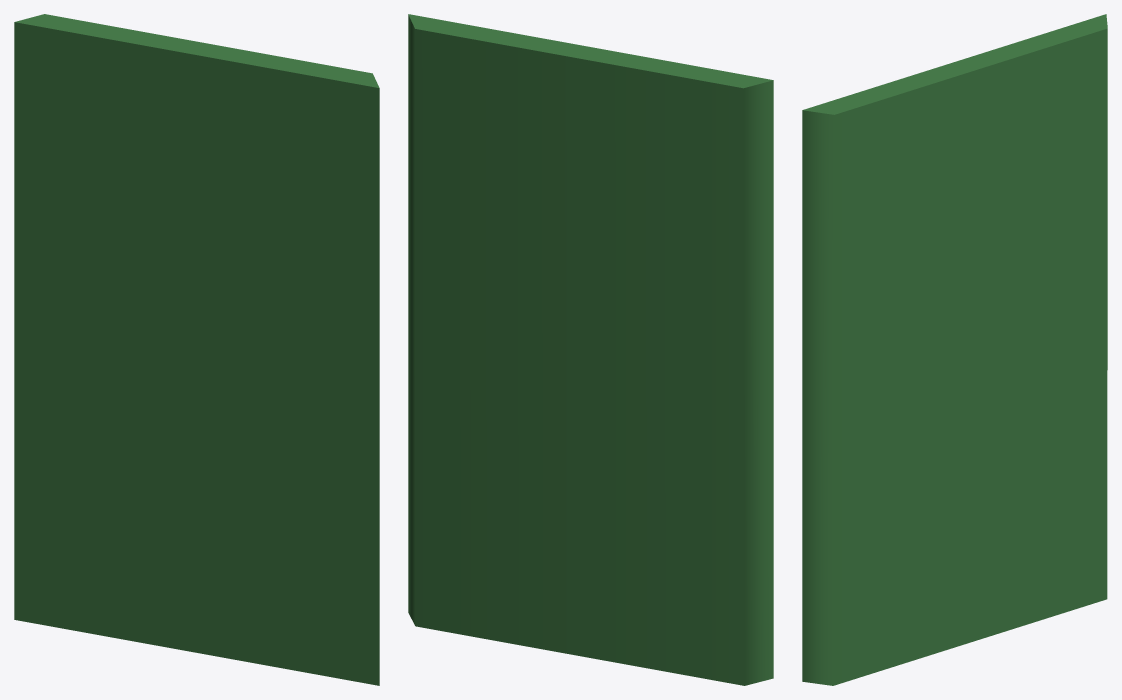
The model's file is room wall plain.fbx.
3 renders of one model, left to right at view 1: azimuth 30°, elevation 25°; view 2: azimuth 210°, elevation 25°; view 3: azimuth 270°, elevation 25°, orthographic. The views are drawn at different scales.
Visible parts, largest first — view 1: polySurface160; view 2: polySurface160; view 3: polySurface160.
Boxes of the visible parts, <box> form: polySurface160: <box>14,14,379,685</box>; polySurface160: <box>408,14,773,685</box>; polySurface160: <box>802,14,1107,685</box>.
Bounding box in the file's own units: 2.97 × 7.83 × 3.8.
